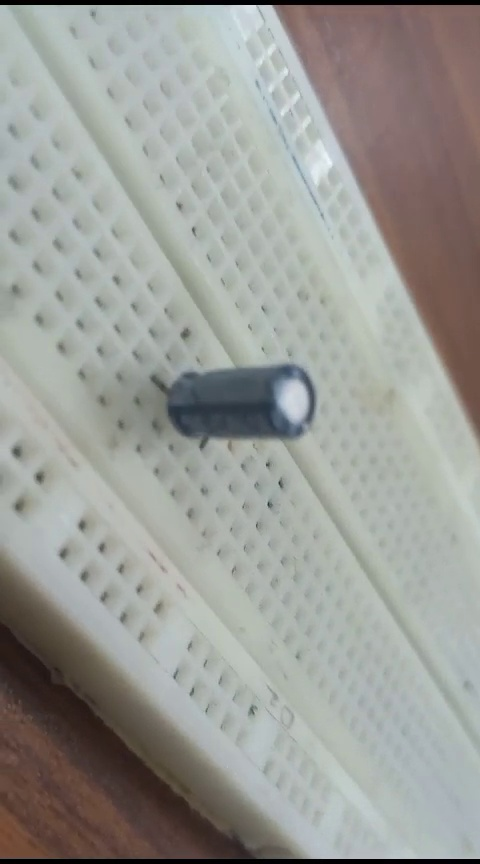capacitor: (143, 343, 334, 461)
